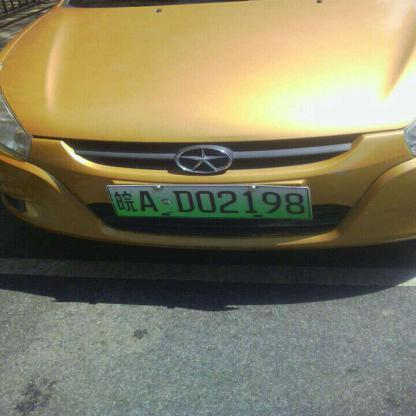lp: (108, 186, 310, 218)
